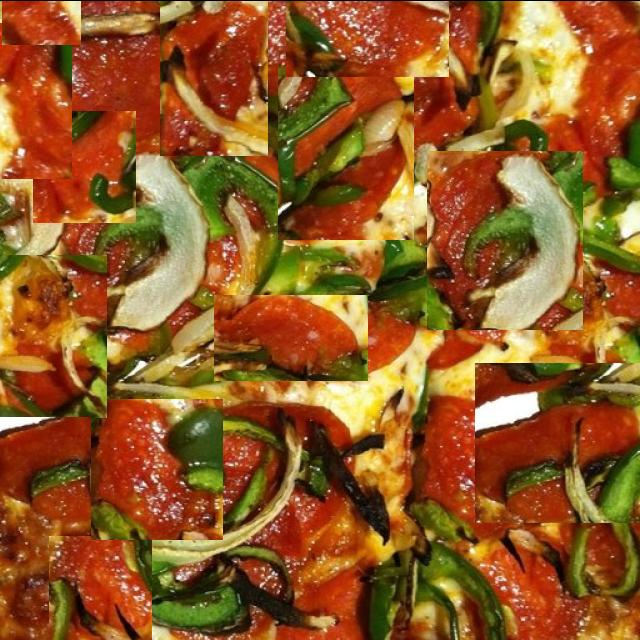pepperoni: (427, 148, 583, 328), (475, 362, 640, 522), (286, 401, 443, 559), (278, 61, 414, 239), (91, 396, 223, 538), (0, 254, 107, 416), (160, 0, 268, 155), (214, 294, 368, 380), (286, 0, 449, 76), (34, 110, 138, 222), (0, 22, 72, 178), (49, 535, 152, 640), (5, 501, 74, 598), (2, 0, 81, 44)
pizza: (0, 0, 640, 640)
